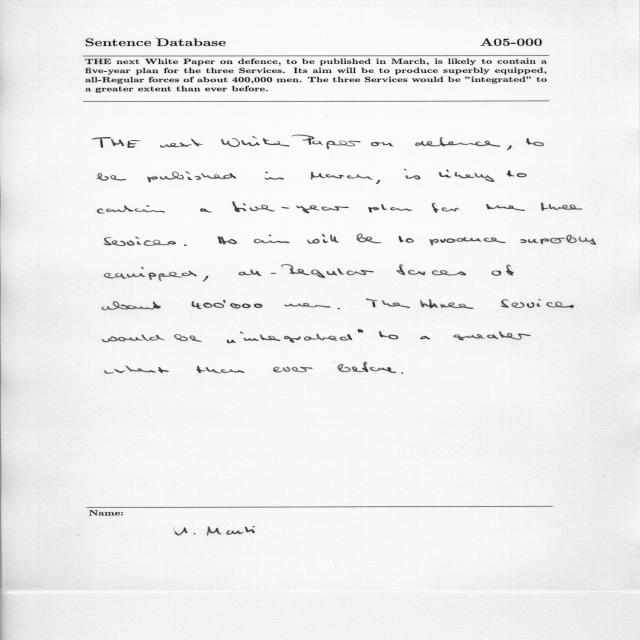word: (239, 265, 374, 279), (232, 202, 349, 214), (104, 267, 197, 281), (240, 332, 352, 343), (148, 172, 237, 183), (292, 135, 360, 149), (415, 137, 500, 147), (520, 234, 596, 245), (397, 265, 466, 276), (221, 136, 289, 147), (439, 169, 494, 182), (454, 332, 531, 341), (501, 299, 574, 308), (337, 362, 396, 373), (104, 237, 176, 246), (192, 300, 263, 309), (97, 205, 165, 214), (430, 237, 506, 245), (102, 301, 161, 310), (420, 299, 473, 309), (92, 137, 140, 148), (104, 366, 169, 374), (102, 335, 165, 343), (311, 172, 373, 180), (368, 204, 412, 213), (366, 299, 410, 308), (160, 139, 203, 148), (197, 366, 245, 373), (541, 203, 582, 211), (254, 235, 290, 244), (307, 234, 339, 244), (486, 204, 525, 211), (432, 203, 459, 213), (357, 234, 382, 244), (492, 265, 514, 276), (273, 367, 313, 373), (284, 303, 331, 308), (97, 173, 126, 181), (174, 334, 202, 342), (404, 169, 420, 180), (379, 331, 398, 340), (265, 172, 284, 180), (218, 237, 237, 245), (506, 171, 527, 178), (526, 138, 544, 146), (399, 236, 414, 243), (371, 142, 393, 146), (200, 208, 212, 213), (227, 340, 236, 344), (203, 276, 208, 282), (420, 336, 430, 339), (507, 145, 512, 150), (358, 329, 363, 333), (376, 180, 380, 184), (184, 244, 187, 246), (401, 372, 403, 374), (338, 308, 340, 309)
